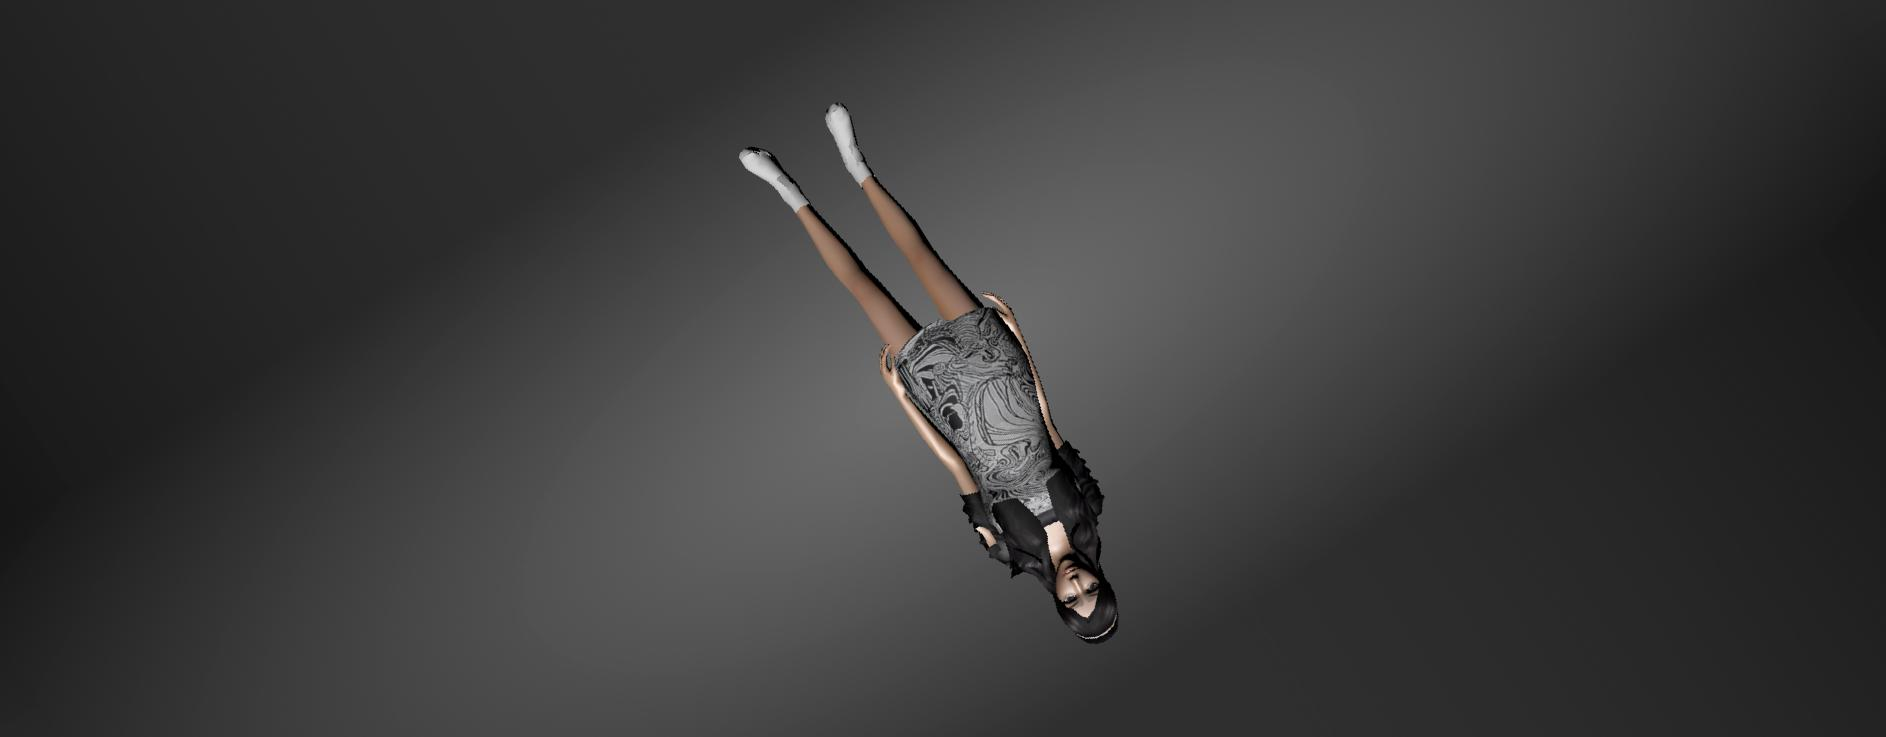clip: (968, 517, 1001, 560)
